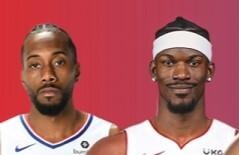feliz: (146, 6, 224, 119)
normal: (14, 20, 89, 116)
